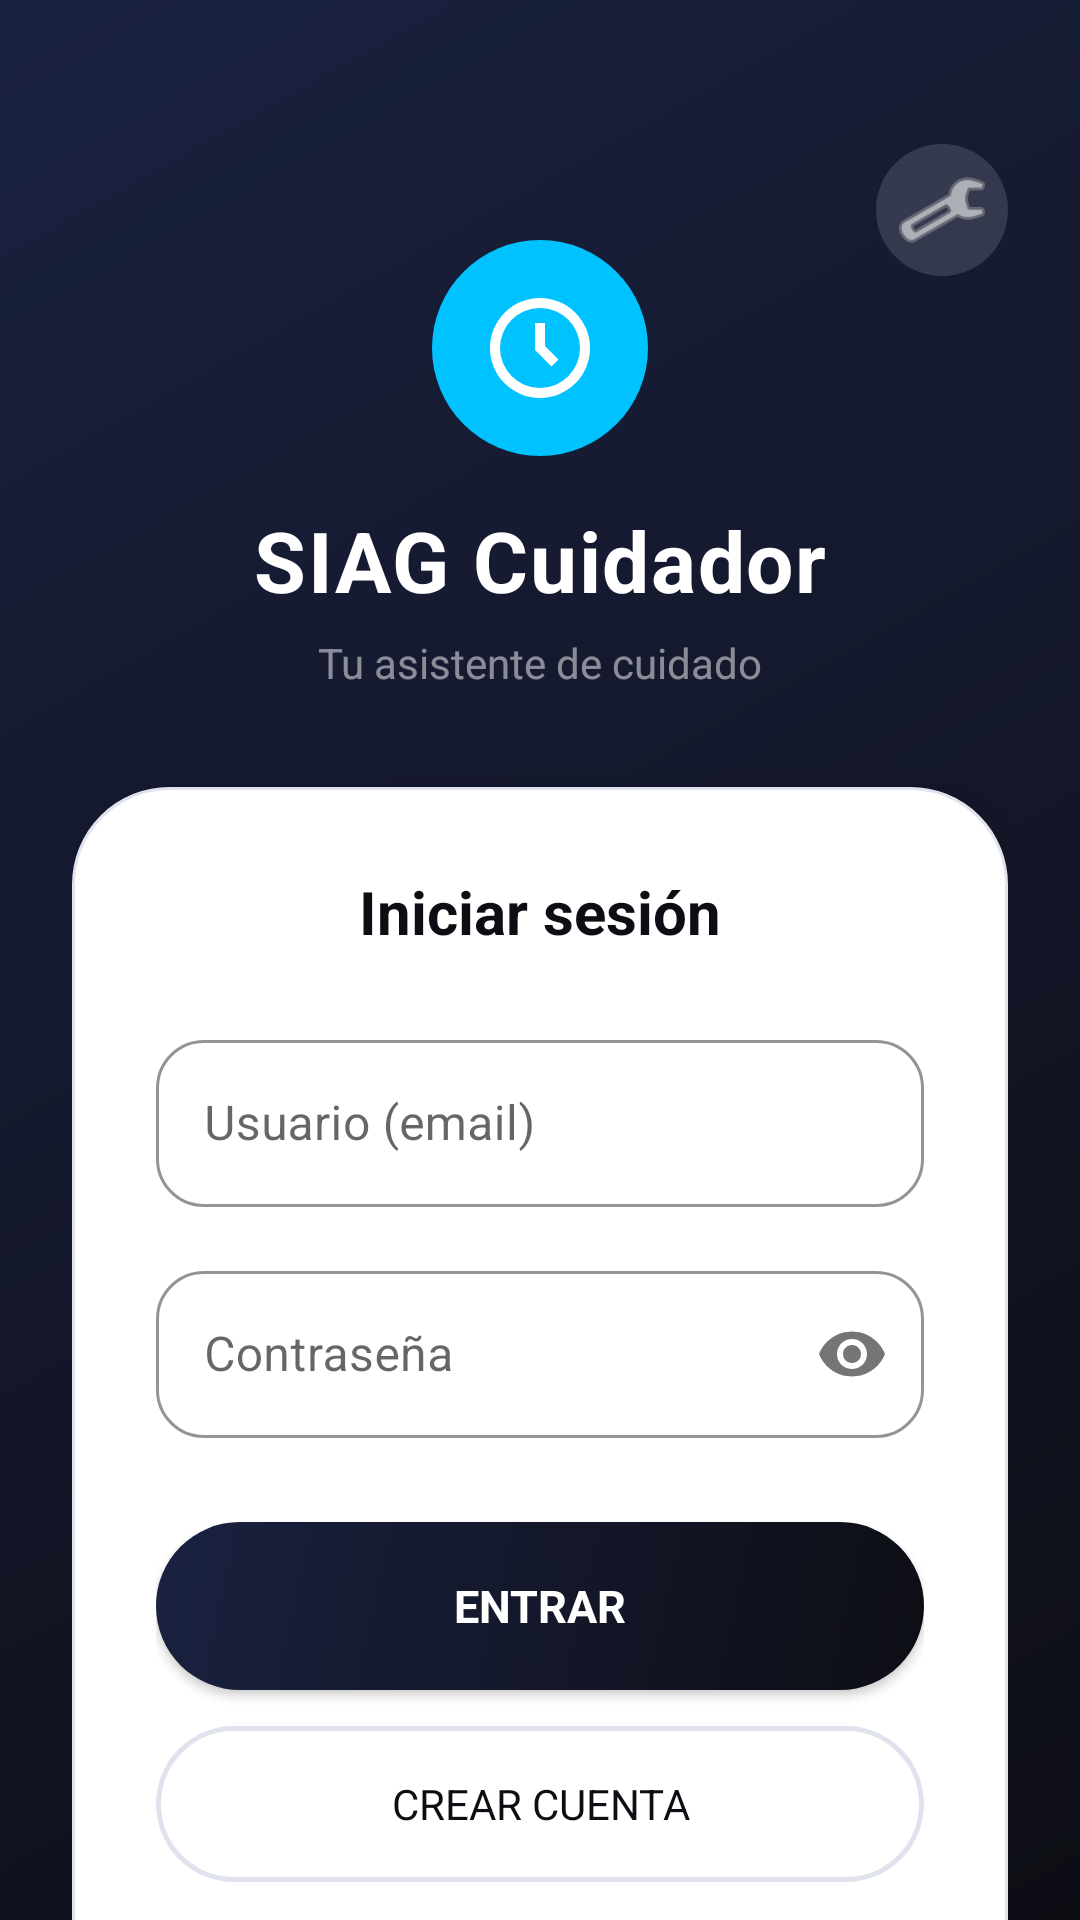

Named icons in this screenshot (1080×1920) and their centers, (x=x, y=y):
watch: (x=540, y=348)
